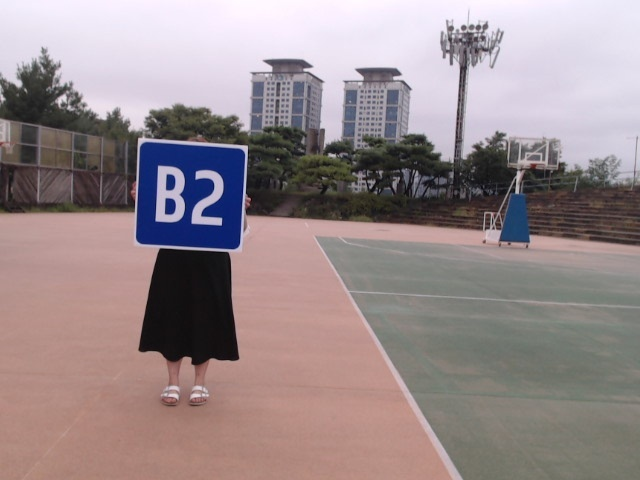delivery_b2: (134, 140, 247, 251)
